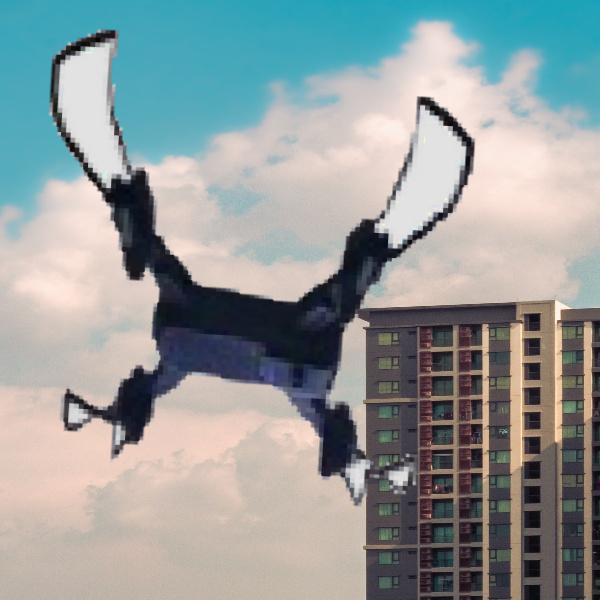drone: (1, 33, 484, 516)
